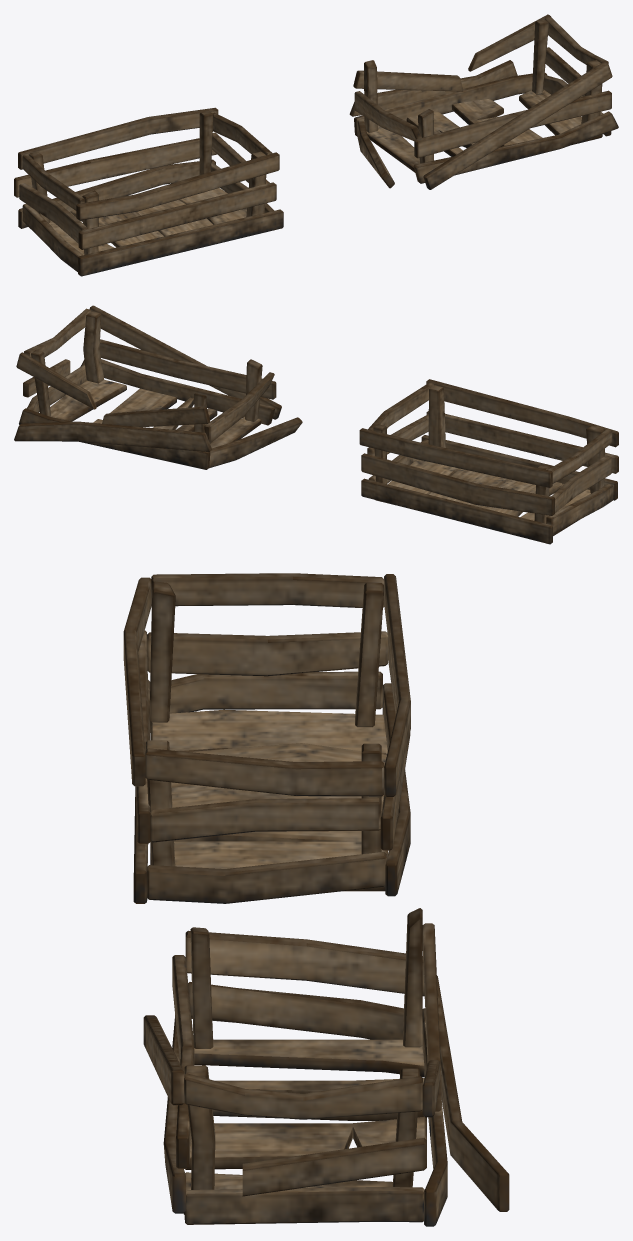
The model's file is junk_box_open.glb.
3 views of the same model, one above another, from view 1: azimuth 30°, elevation 25°; view 2: azimuth 150°, elevation 25°; view 3: azimuth 270°, elevation 25° (orthographic). The views are drawn at different scales.
Visible parts, largest first — view 1: mesh; view 2: mesh; view 3: mesh.
Boxes of the visible parts, x1,y1,x2,y2 form: mesh: (14, 14, 618, 276); mesh: (14, 305, 618, 544); mesh: (123, 573, 509, 1226).
Bounding box in the file's own units: 3.48 × 0.4681 × 1.1.
1 material, 1 textured.
